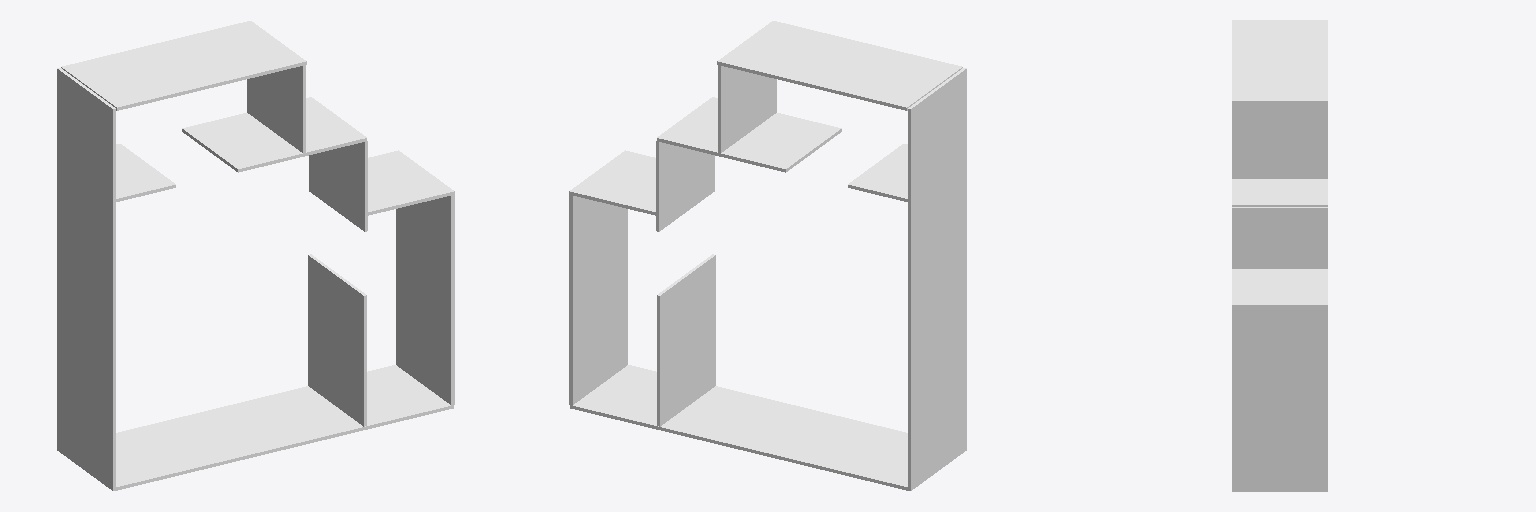
robot.urdf — wall1_beta:
<?xml version="1.0" ?>
<robot name="wall1_beta">
  <!-- 必须显式定义world link -->
  <link name="world">
    <inertial>
      <origin rpy="0 0 0" xyz="0 0 0"/>
      <mass value="0"/>
      <inertia ixx="0" ixy="0" ixz="0" iyy="0" iyz="0" izz="0"/>
    </inertial>
  </link>

  <link name="baseLink">
    <inertial>
      <origin rpy="0 0 0" xyz="0 0 0"/>
      <mass value="500.0"/>
      <inertia ixx="376.666667" ixy="0" ixz="0" iyy="541.666667" iyz="0" izz="168.333333"/>
    </inertial>
    <visual>
      <origin rpy="0 0 0" xyz="0 0 0"/>
      <geometry>
        <mesh filename="wall1_beta.obj" scale="1.0 1.0 1.0"/>
      </geometry>
      <material name="white">
        <color rgba="1 1 1 1"/>
      </material>
    </visual>
    <collision>
      <origin rpy="0 0 0" xyz="0 0 0"/>
      <geometry>
        <mesh filename="wall1_beta.obj" scale="1.0 1.0 1.0"/>
      </geometry>
    </collision>
  </link>

  <joint name="fixed_joint" type="fixed">
    <parent link="world"/>
    <child link="baseLink"/>
    <origin rpy="0 0 0" xyz="0 0 0"/>
  </joint>
</robot>

--- What the picture shows (computed from the rendered views, not written in the file) ---
Views: 3 orthographic renders of the robot side by side, from view 1: azimuth 30°, elevation 25°; view 2: azimuth 150°, elevation 25°; view 3: azimuth 270°, elevation 25°.
Robot: wall1_beta — 2 links, 1 joints (1 fixed); root link world; default pose: every joint at zero.
Visible links, largest first — view 1: baseLink; view 2: baseLink; view 3: baseLink.
Link boxes in pixels (x1,y1,x2,y2): baseLink: (57, 21, 454, 490); baseLink: (569, 21, 966, 490); baseLink: (1232, 20, 1327, 491).
Size in the robot's own frame: 9.7 by 2.75 by 10.39 metres.
1 mesh visuals loaded from 1 distinct referenced files (1 OBJ).
